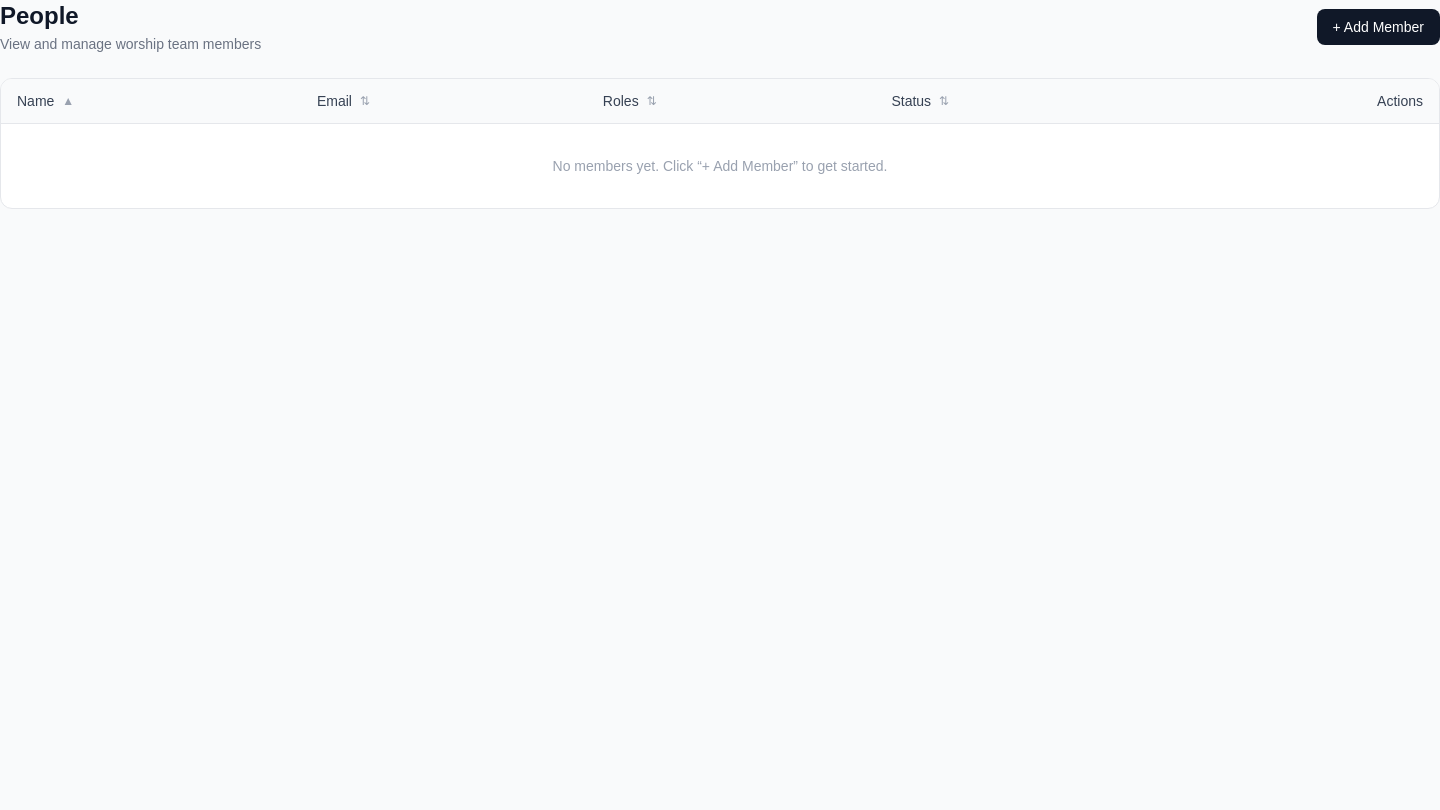
Journey: Admin can manage members › Admin: can open the Add Member form and see all required fields
The image size is (1440, 810).
Click the button "+ Add Member" at {"x": 1378, "y": 27}, box top-left (1317, 9), bottom-right (1439, 45)
(page scrolled)
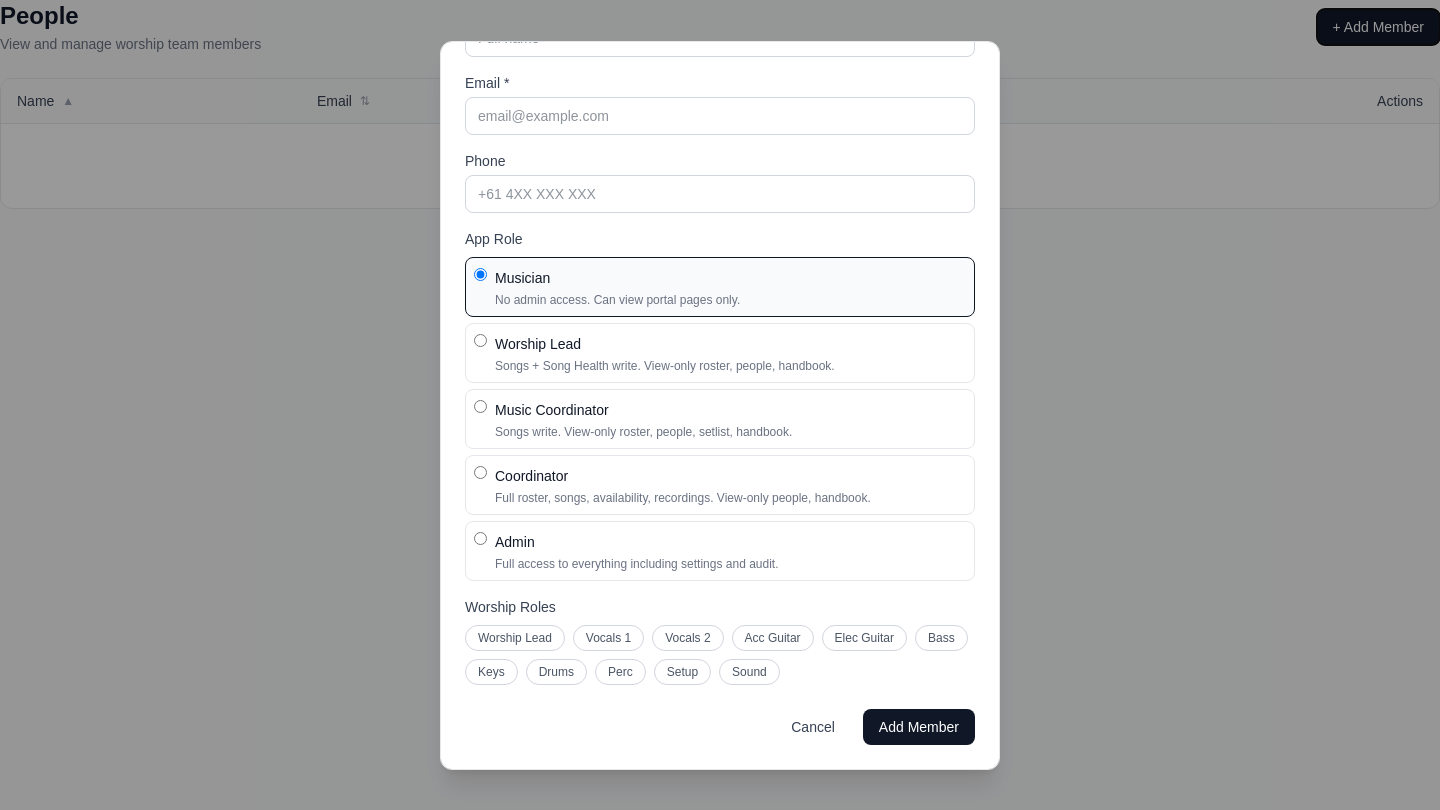
Result: the field with placeholder "email@example.com" is shown at top-left (465, 96), bottom-right (975, 134)
Result: the field with placeholder "+61 4XX XXX XXX" is shown at top-left (465, 174), bottom-right (975, 212)
Result: the number of radio buttons is 5 at top-left (474, 268), bottom-right (487, 280); top-left (474, 334), bottom-right (487, 346); top-left (474, 400), bottom-right (487, 412); top-left (474, 466), bottom-right (487, 478); top-left (474, 532), bottom-right (487, 544)
